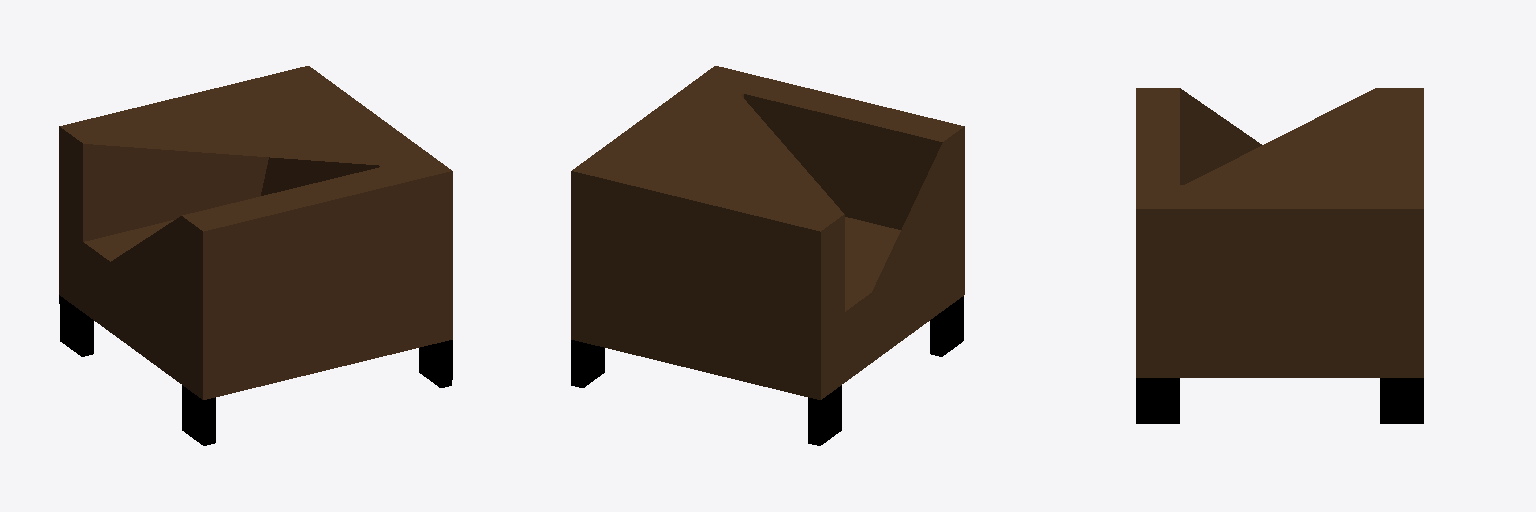
Rendered from ChairArmChair.obj.
3 views of the same model, side by side, from view 1: azimuth 30°, elevation 25°; view 2: azimuth 150°, elevation 25°; view 3: azimuth 270°, elevation 25° (orthographic).
Parts seen in each view (by area): view 1: ChairArmChair; view 2: ChairArmChair; view 3: ChairArmChair.
Part boxes in pixels (x1,y1,x2,y2): ChairArmChair: (59,66,452,445); ChairArmChair: (571,66,964,445); ChairArmChair: (1136,88,1423,423).
Bounding box in the file's own units: 85 × 70 × 85.